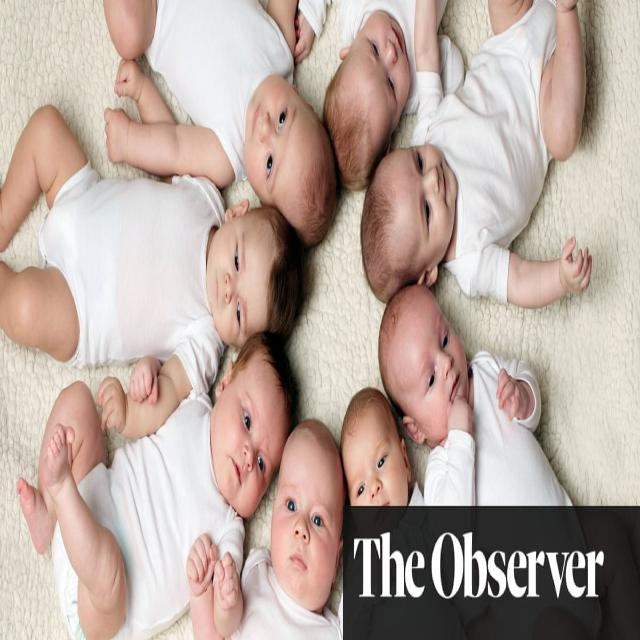non-dog: (0, 109, 304, 441), (21, 337, 289, 640), (360, 1, 596, 313), (104, 1, 340, 247), (378, 285, 576, 509), (168, 418, 348, 640), (299, 1, 465, 191), (339, 386, 425, 513)
